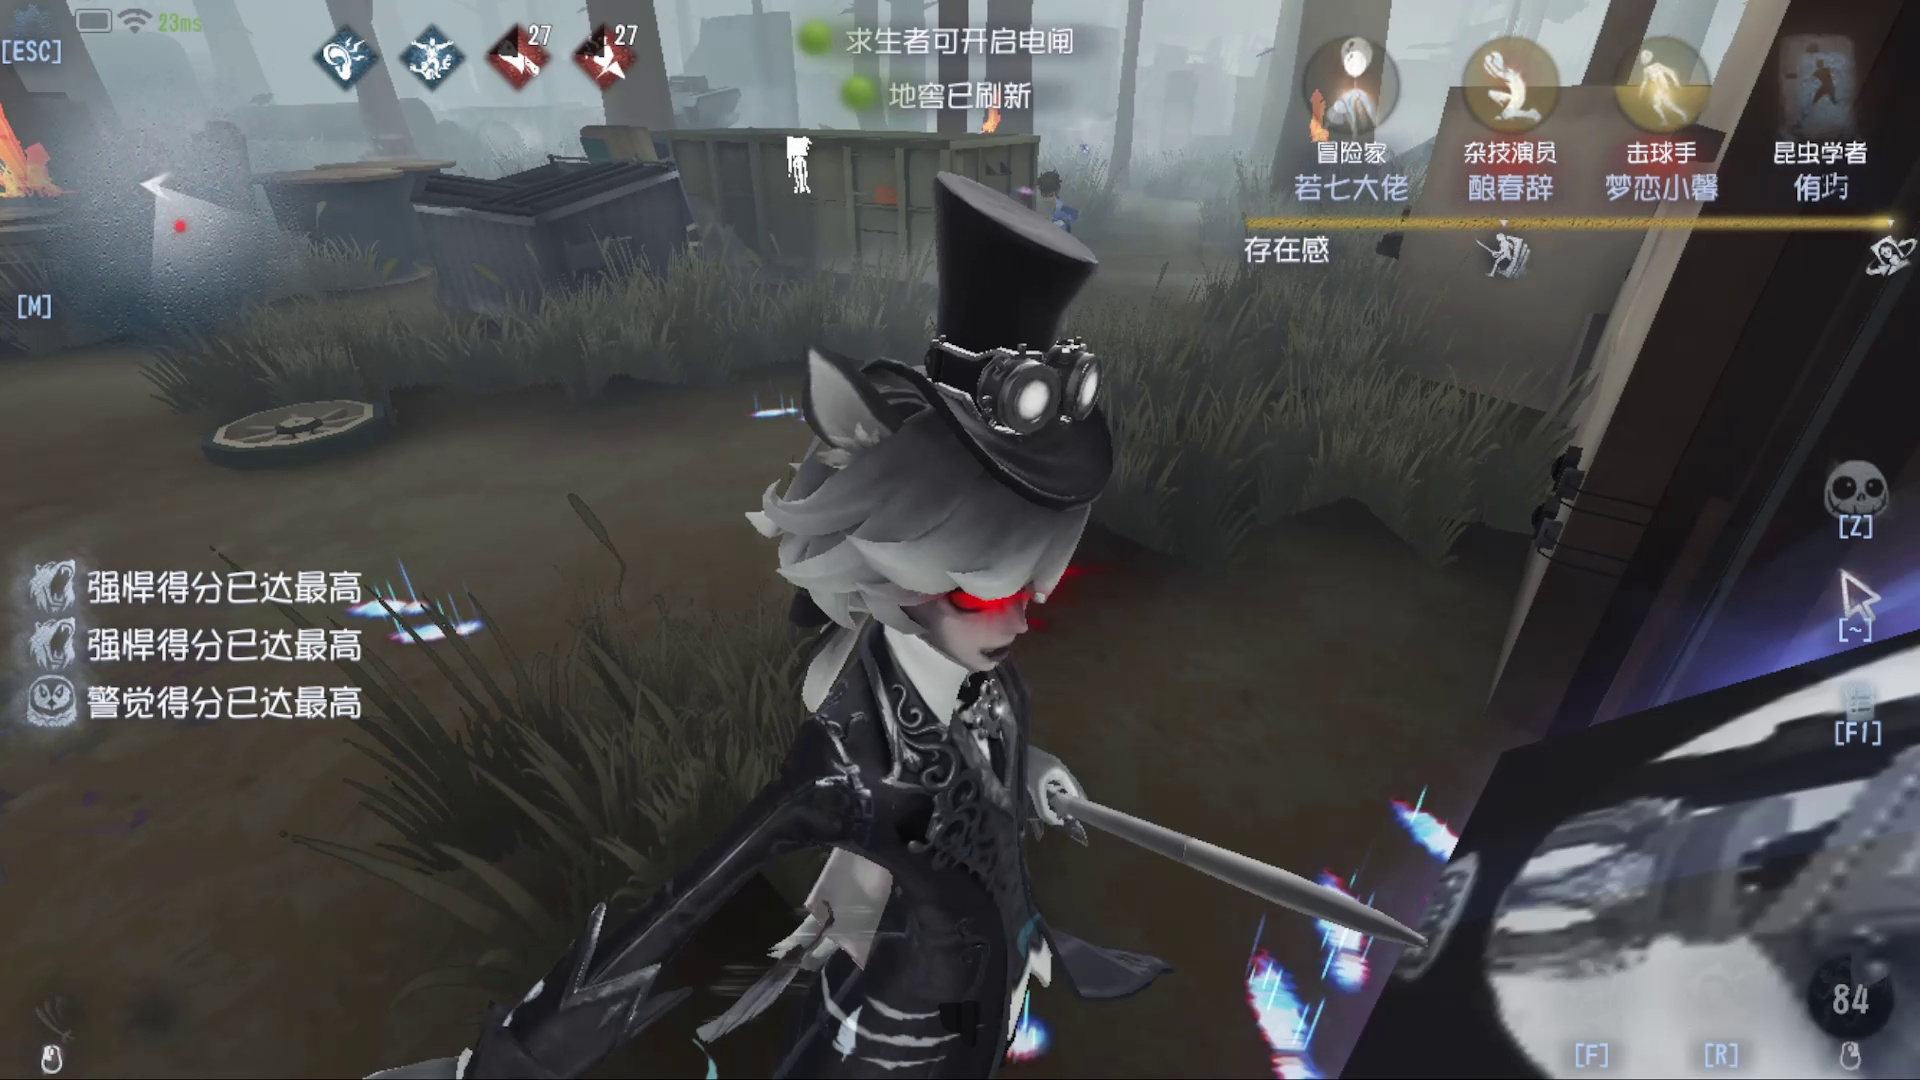木板: (579, 117, 700, 181)
求生者: (1025, 160, 1079, 233)
